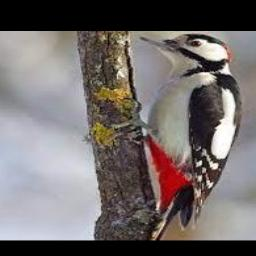Woodpecker: (119, 34, 243, 240)
